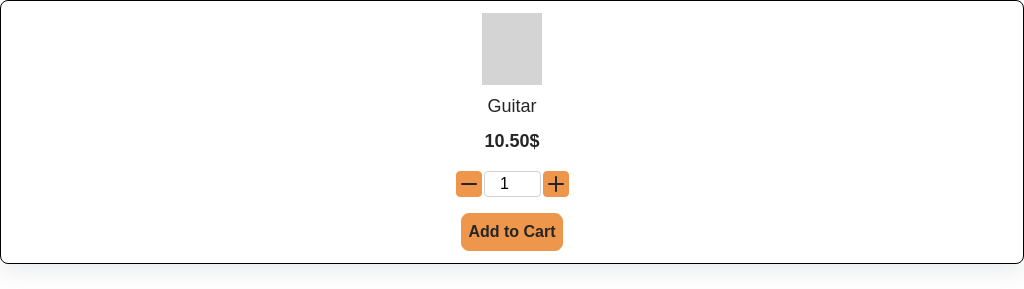
Test: ShopProduct Component Tests › adds to cart
Step 1. Click the button named "increase" → (556, 184), box [542,171,568,197]
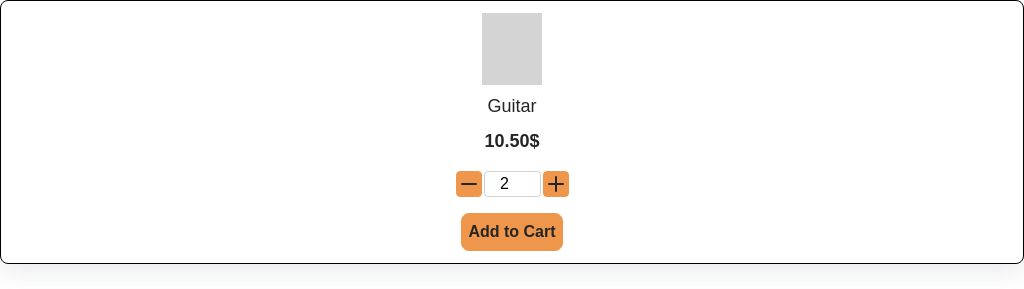
Step 2. Click the button named "increase" → (556, 184), box [542,171,568,197]
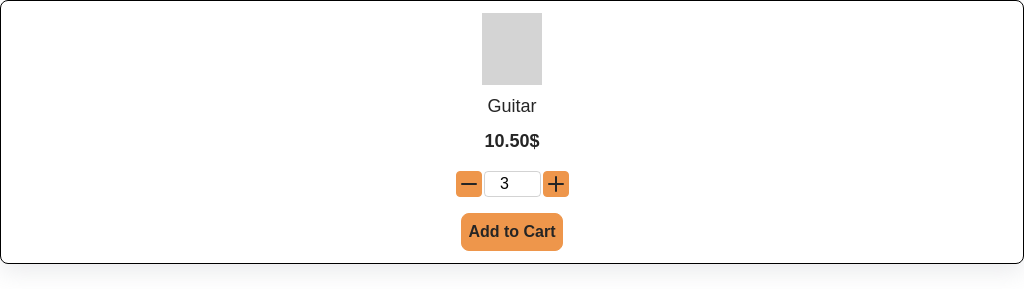
Step 3. Click the button "Add to Cart" → (512, 232), box [461,213,562,251]
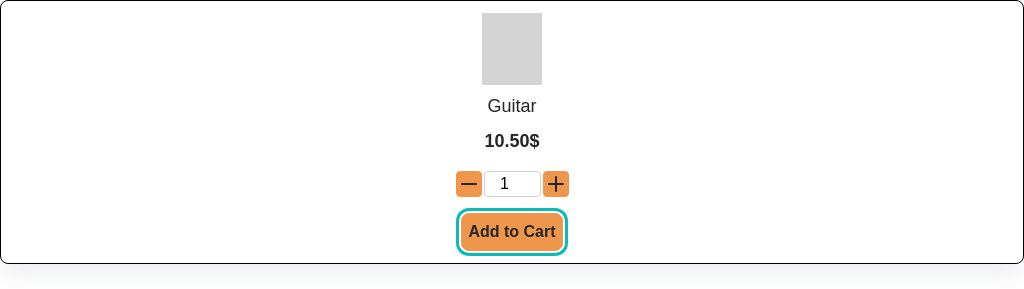
Result: the number field holds "1" at [484,171,540,197]
